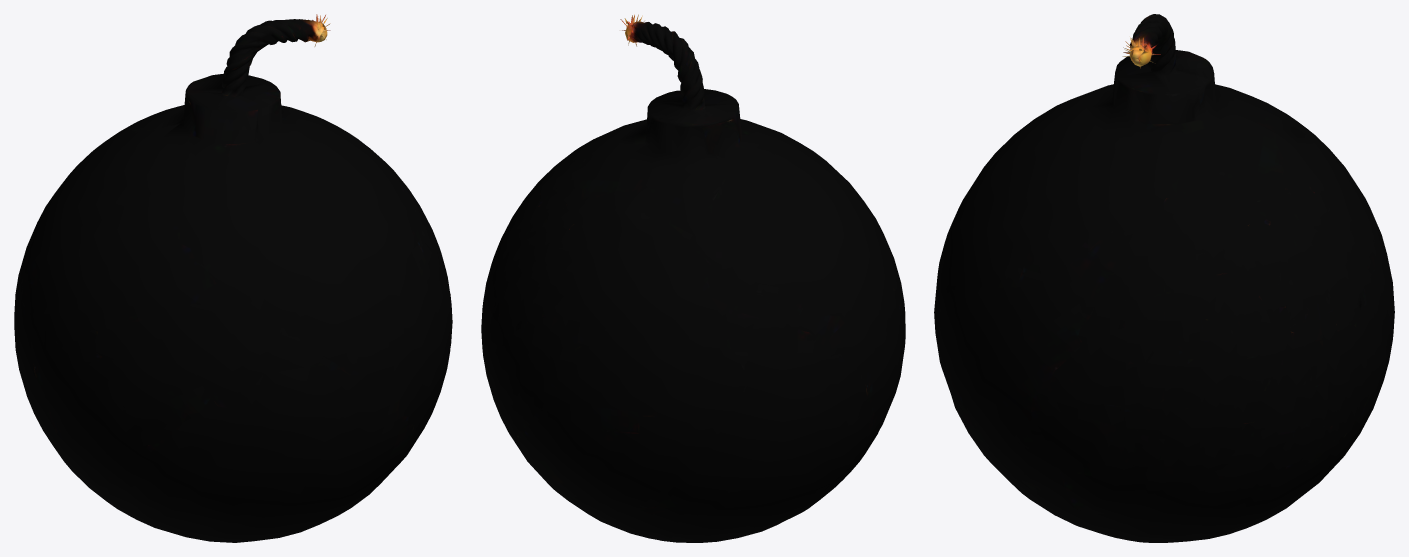
Rendered from bomb.glb.
3 views of the same model, side by side, from view 1: azimuth 30°, elevation 25°; view 2: azimuth 150°, elevation 25°; view 3: azimuth 270°, elevation 25° (orthographic). The views are drawn at different scales.
Parts seen in each view (by area): view 1: material; view 2: material; view 3: material.
Boxes of the visible parts, bbox=[...] form: material: bbox=[14, 14, 452, 542]; material: bbox=[481, 14, 905, 542]; material: bbox=[934, 14, 1394, 542].
Bounding box in the file's own units: 0.9068 × 1.14 × 0.9102.
Materials: 1 (1 with a texture image).
